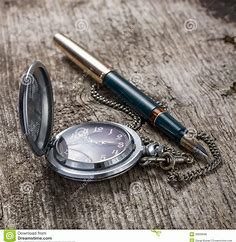pen: (53, 29, 208, 157)
